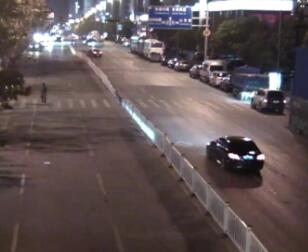bus: (136, 37, 163, 60), (127, 34, 139, 55)
car: (205, 133, 266, 176), (231, 65, 269, 98), (248, 88, 287, 114), (198, 59, 225, 82), (209, 69, 230, 88), (87, 46, 104, 59), (188, 62, 202, 77), (27, 40, 41, 53), (172, 60, 188, 71), (166, 58, 173, 67)
